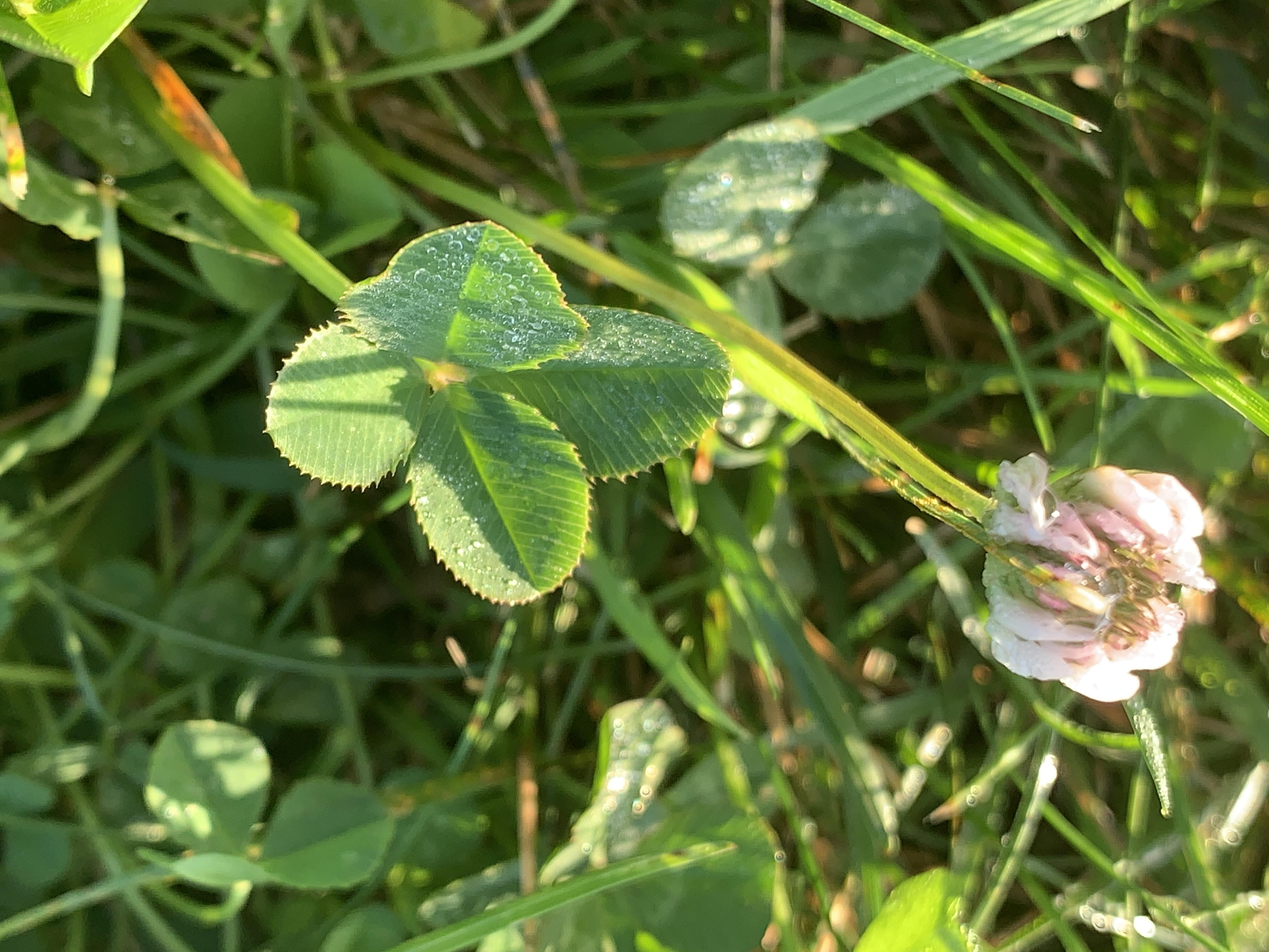4-Leaf-Clovers: (456, 200, 980, 548)
